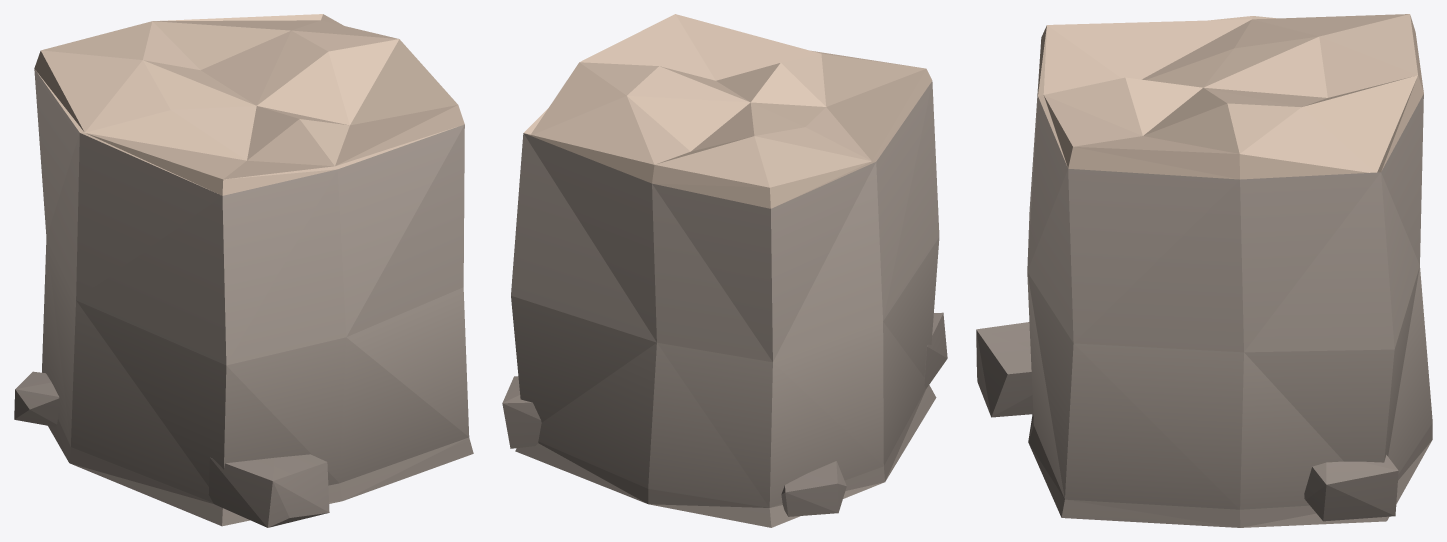
The model's file is RockZ_City_Damaged.fbx.
3 renders of one model, left to right at view 1: azimuth 30°, elevation 25°; view 2: azimuth 150°, elevation 25°; view 3: azimuth 270°, elevation 25°, orthographic. The views are drawn at different scales.
Visible parts, largest first — view 1: RockZ_City_Damaged; view 2: RockZ_City_Damaged; view 3: RockZ_City_Damaged.
Part boxes in pixels (x1,y1,x2,y2): RockZ_City_Damaged: (14,14,473,527); RockZ_City_Damaged: (502,14,947,527); RockZ_City_Damaged: (976,14,1432,527).
Size of the model in its own units: 2.78 by 2.71 by 2.95.
